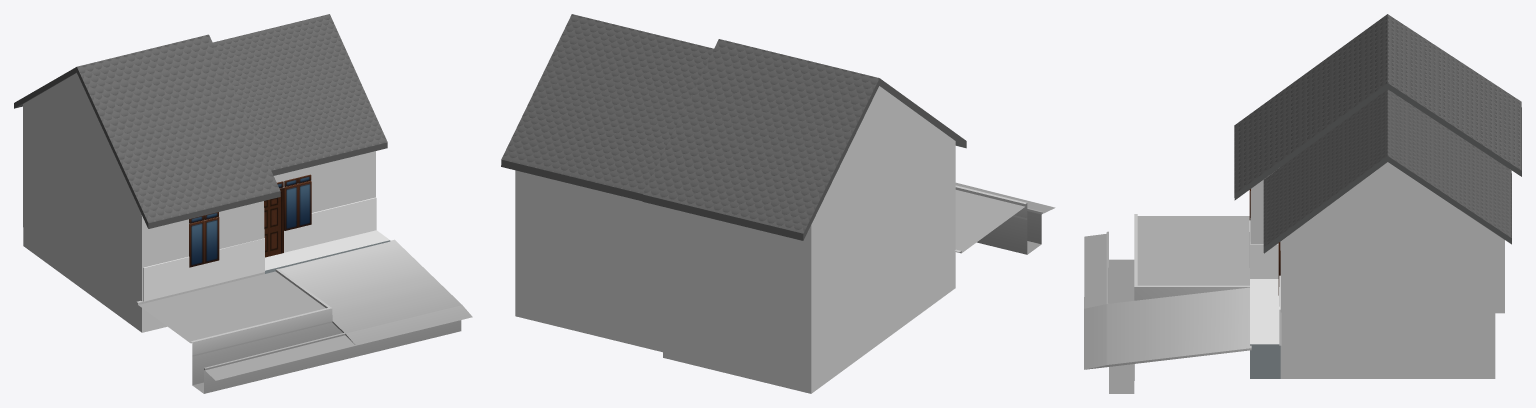
File: NPCRumah 22.fbx
3 renders of one model, left to right at view 1: azimuth 30°, elevation 25°; view 2: azimuth 150°, elevation 25°; view 3: azimuth 270°, elevation 25°, orthographic. The views are drawn at different scales.
Visible parts, largest first — view 1: RoofNPC22_LOD0, Body1NPC22_LOD0, RoadNPC22_LOD0, Body2NPC22_LOD0, DoorNPC22_LOD0; view 2: Body1NPC22_LOD0, RoofNPC22_LOD0, RoadNPC22_LOD0; view 3: Body1NPC22_LOD0, RoofNPC22_LOD0, RoadNPC22_LOD0, Body2NPC22_LOD0.
Part boxes in pixels (<box>): RoofNPC22_LOD0: <box>14,14,387,228</box>; Body1NPC22_LOD0: <box>23,73,390,332</box>; RoadNPC22_LOD0: <box>137,239,472,393</box>; Body2NPC22_LOD0: <box>143,197,376,301</box>; DoorNPC22_LOD0: <box>189,174,311,267</box>; Body1NPC22_LOD0: <box>515,86,955,393</box>; RoofNPC22_LOD0: <box>501,14,966,240</box>; RoadNPC22_LOD0: <box>955,182,1055,254</box>; Body1NPC22_LOD0: <box>1250,162,1504,378</box>; RoofNPC22_LOD0: <box>1234,14,1521,253</box>; RoadNPC22_LOD0: <box>1084,214,1251,393</box>; Body2NPC22_LOD0: <box>1249,220,1281,345</box>.
Size of what is drawn, in the model's own units: 1775 by 1525 by 2446.
